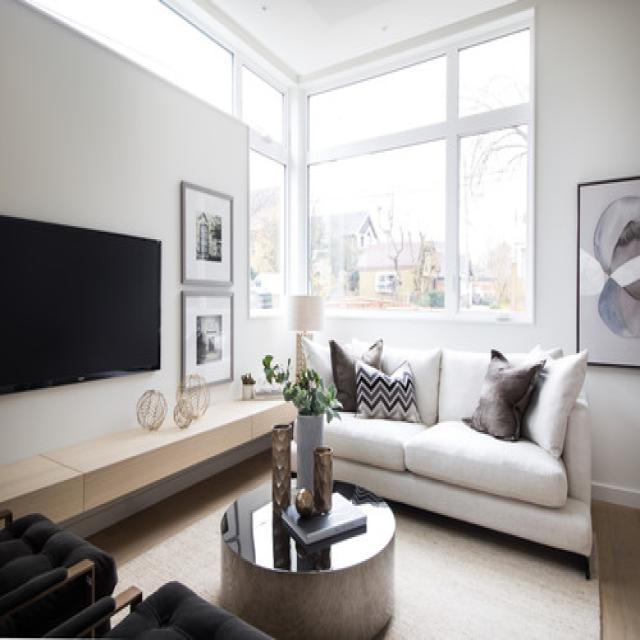modern desk: (217, 470, 408, 636)
modern sofa: (299, 334, 601, 585)
